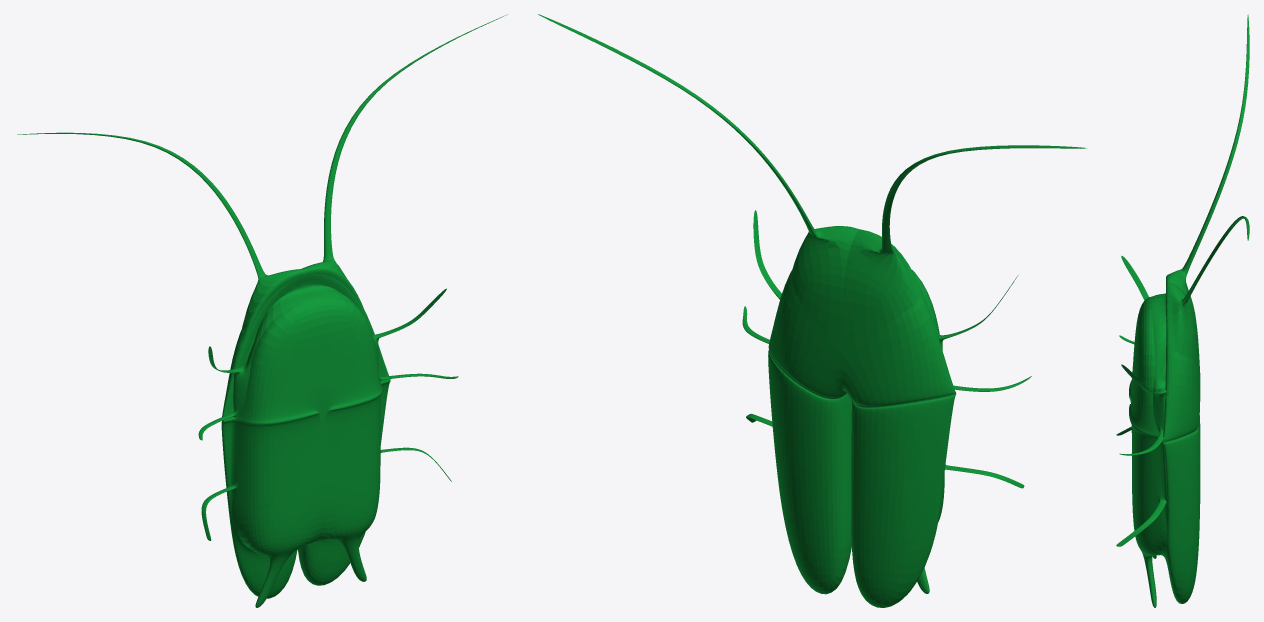
File: Cockroach green.fbx
3 views of the same model, side by side, from view 1: azimuth 30°, elevation 25°; view 2: azimuth 150°, elevation 25°; view 3: azimuth 270°, elevation 25° (orthographic). The views are drawn at different scales.
Parts seen in each view (by area): view 1: Cube; view 2: Cube; view 3: Cube.
Part boxes in pixels (x1,y1,x2,y2): Cube: (17,14,507,607); Cube: (538,14,1086,607); Cube: (1116,14,1249,607).
Bounding box in the file's own units: 336 × 319 × 83.31.
